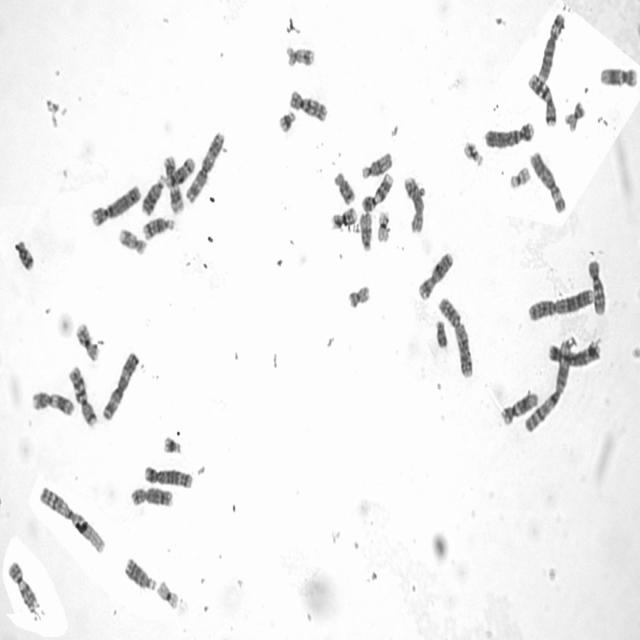A1: (522, 334, 574, 434), (37, 483, 106, 555)
A2: (436, 294, 474, 379), (525, 284, 595, 323)
A3: (184, 128, 226, 204), (100, 348, 141, 422)
B4: (88, 181, 143, 228), (483, 118, 536, 150)
B5: (546, 337, 602, 368), (142, 464, 194, 489)
C10: (287, 86, 328, 124), (586, 255, 607, 318)
C11: (161, 151, 185, 215), (30, 388, 76, 418)
C12: (498, 388, 540, 426), (598, 64, 638, 88)
C6: (528, 148, 566, 214), (536, 10, 566, 83)
C7: (67, 362, 99, 428), (526, 70, 557, 129)
C8: (402, 173, 426, 235), (128, 484, 174, 508)
C9: (7, 559, 38, 613), (359, 169, 395, 214)
D13: (123, 553, 157, 593), (139, 172, 166, 218)
D14: (163, 154, 196, 189), (140, 214, 176, 240)
D15: (359, 148, 394, 180), (358, 210, 374, 252)
E16: (74, 318, 100, 363), (329, 203, 358, 230)
E17: (116, 224, 148, 256), (284, 42, 316, 69)
E18: (331, 166, 357, 206), (12, 236, 36, 272)
F19: (156, 576, 180, 611), (375, 209, 392, 243)
F20: (563, 98, 586, 132), (346, 282, 371, 310)
G21: (276, 107, 297, 134), (162, 432, 183, 456)
G22: (508, 163, 532, 190), (464, 140, 484, 168)
X: (415, 248, 455, 302)
Y: (434, 317, 449, 350)
